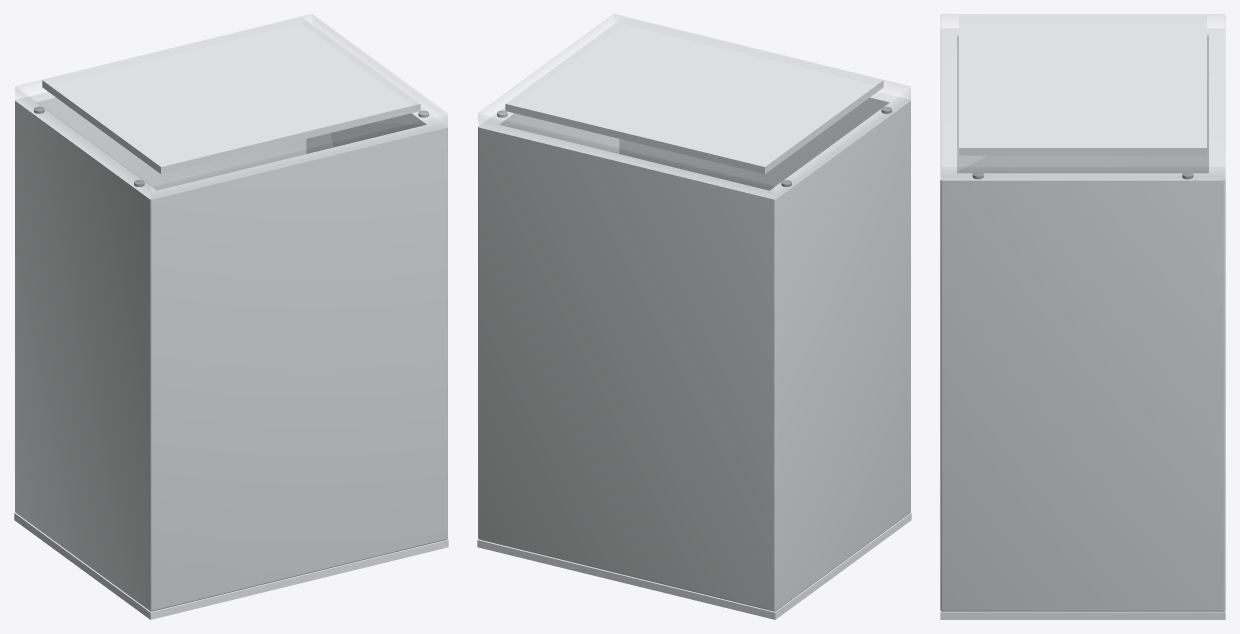
The model's file is acrylic-case-4inch-stackable.glb.
The picture shows the model from 3 angles, left to right: view 1: azimuth 30°, elevation 25°; view 2: azimuth 150°, elevation 25°; view 3: azimuth 270°, elevation 25°; orthographic projection. The views are drawn at different scales.
Parts seen in each view (by area): view 1: Cube, Stacking lip, Cube.002, Stacking rim 2, Stacking rim 3; view 2: Cube, Stacking lip, Cube.002, Stacking rim 1, Stacking rim 3; view 3: Cube, Stacking lip, Cube.002, Stacking rim 4.
Part boxes in pixels (x1,y1,x2,y2): Cube: (15,92,447,611); Stacking lip: (42,17,420,174); Cube.002: (15,14,447,198); Stacking rim 2: (141,539,448,619); Stacking rim 3: (23,519,142,612); Cube: (478,92,910,611); Stacking lip: (505,17,883,174); Cube.002: (478,14,910,198); Stacking rim 1: (477,539,784,619); Stacking rim 3: (783,519,902,612); Cube: (940,28,1225,611); Stacking lip: (959,15,1206,155); Cube.002: (940,14,1225,179); Stacking rim 4: (959,611,1206,619).
Bounding box in the file's own units: 0.13 × 0.184 × 0.103.
5 materials, 3 textured.
